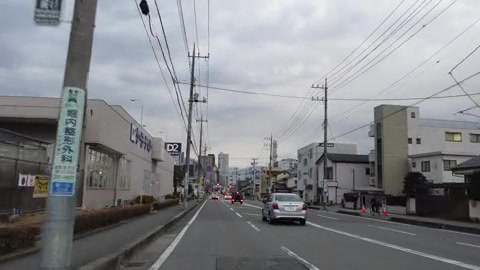traffic_sign: (205, 166, 211, 172), (212, 166, 217, 171)
